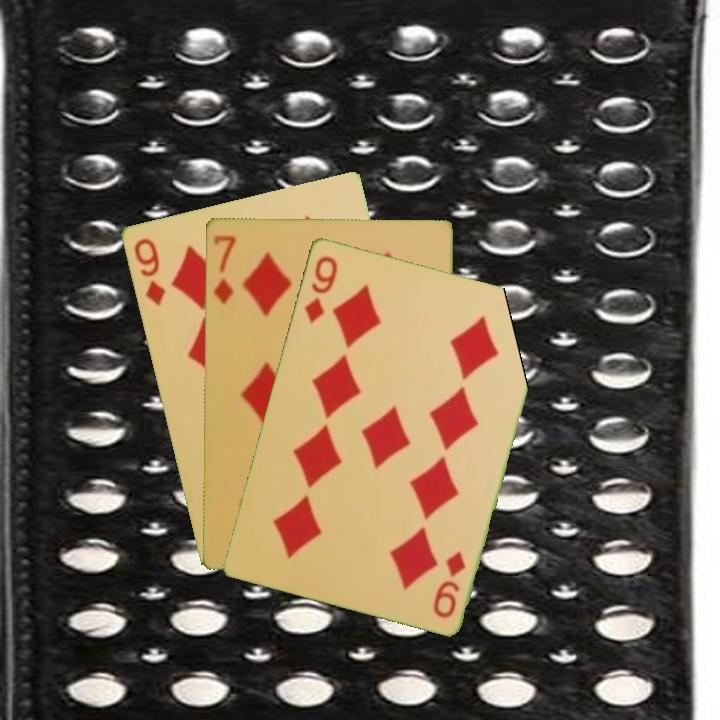7d: (209, 231, 238, 306)
9d: (300, 252, 340, 326), (429, 547, 469, 621), (130, 234, 168, 308)
